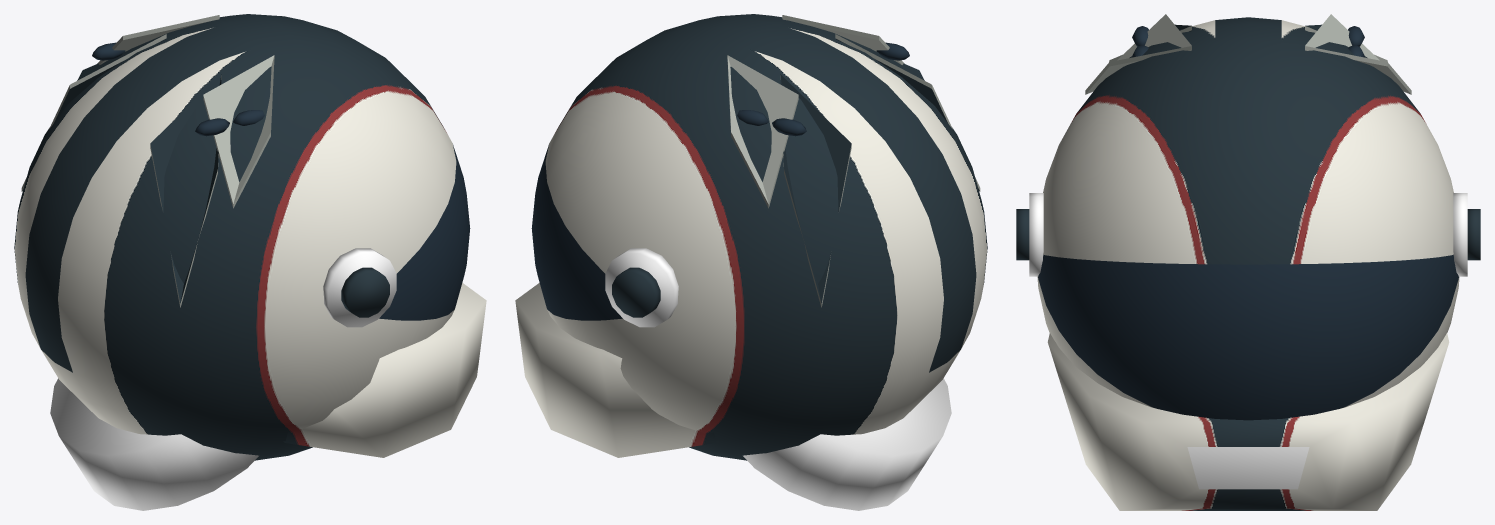
The model's file is Helmet_23_SR_白帆・墨返し.glb.
3 renders of one model, left to right at view 1: azimuth 30°, elevation 25°; view 2: azimuth 150°, elevation 25°; view 3: azimuth 270°, elevation 25°, orthographic. The views are drawn at different scales.
Visible parts, largest first — view 1: Helmet_23_SR, Visor; view 2: Helmet_23_SR, Visor; view 3: Helmet_23_SR, Visor.
Boxes of the visible parts, box(x1,y1,x2,y2) form: Helmet_23_SR: box(14, 14, 486, 510); Visor: box(92, 42, 470, 320); Helmet_23_SR: box(515, 14, 987, 510); Visor: box(531, 42, 909, 320); Helmet_23_SR: box(1016, 14, 1480, 510); Visor: box(1038, 26, 1458, 420).
Size of the model in its own units: 0.301 by 0.305 by 0.289.
Materials: 4 (4 with a texture image).
